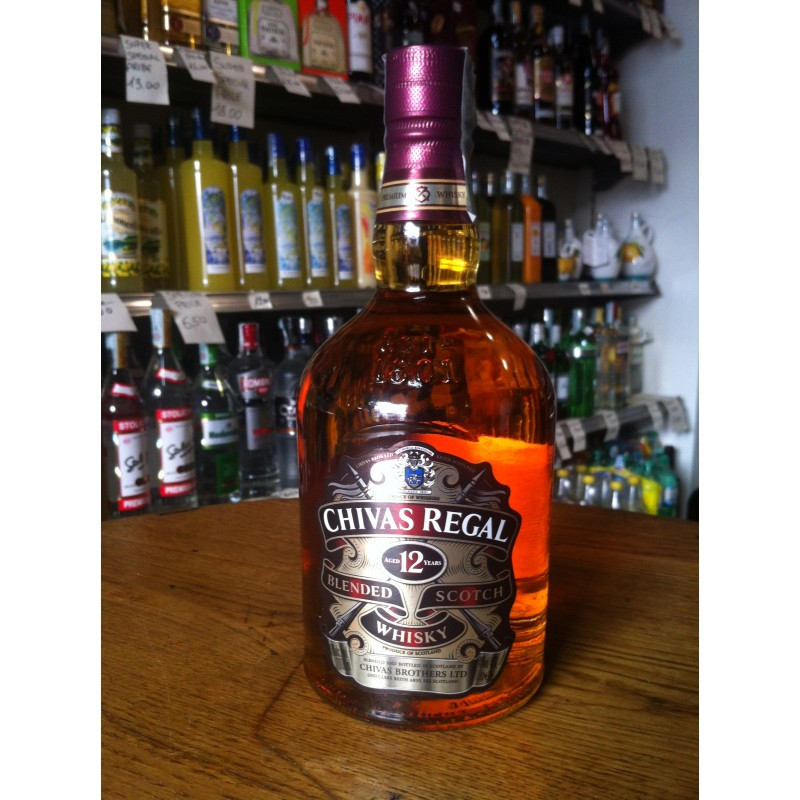Chivas Regal: (283, 33, 567, 743)
